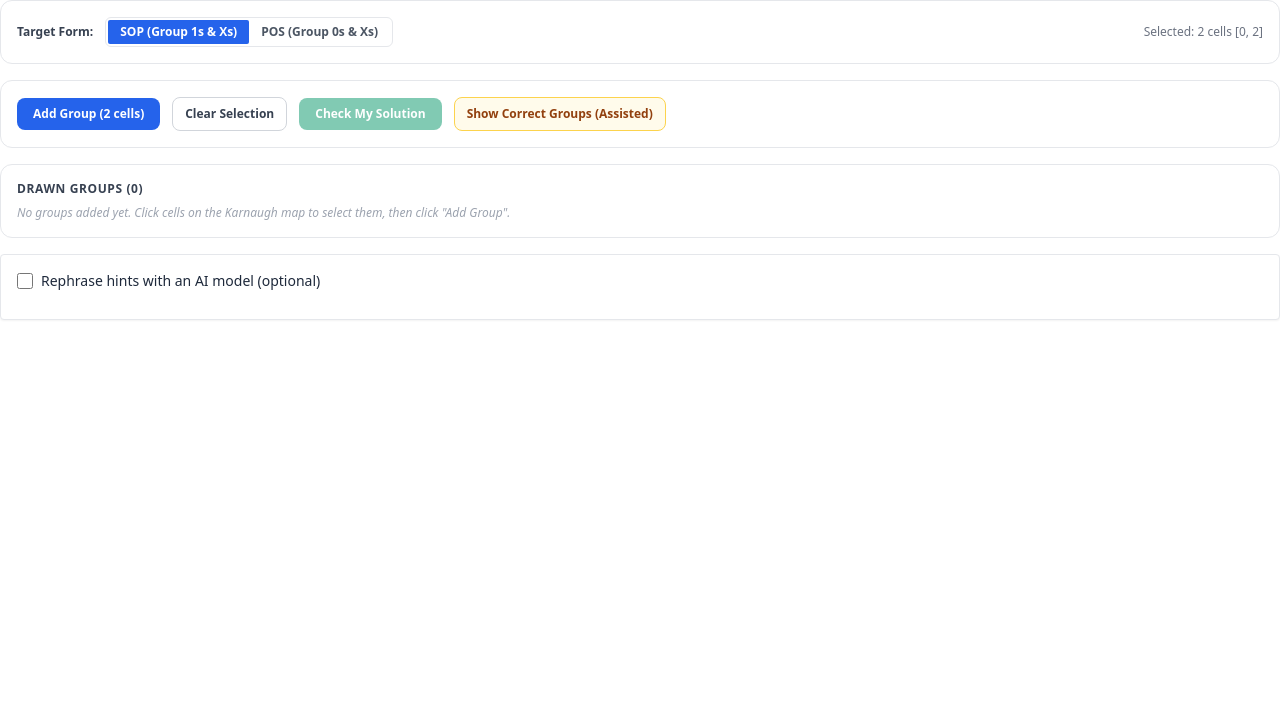
StudentModePanel › diagnoses a group covering a zero with covered-a-zero error
Click the button "Add Group (2 cells)": {"x": 89, "y": 114} [17,98,160,130]
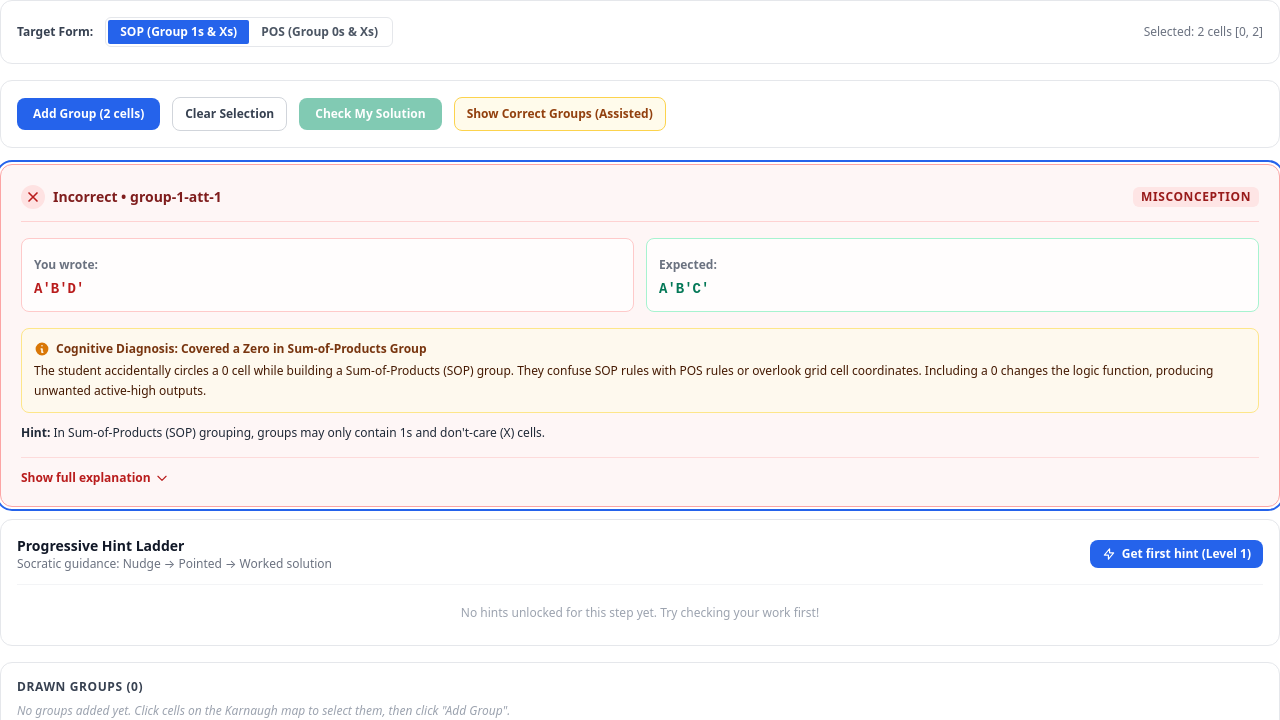
Result: the text "Cognitive Diagnosis: Covered a Zero in Sum-of-Products Group" is shown at [34,340,426,357]
